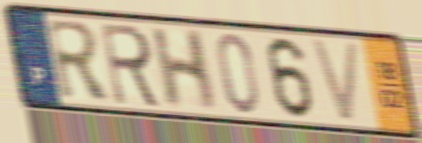0: (214, 31, 261, 117)
6: (265, 34, 315, 122)
H: (148, 26, 219, 113)
R: (99, 20, 166, 112), (44, 17, 115, 103)
V: (307, 36, 363, 126)
